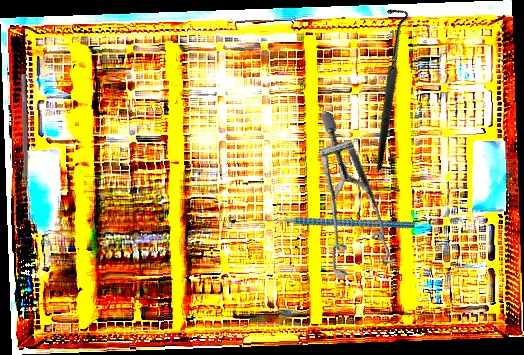Chopper: (252, 168, 416, 284)
Hook Surgical: (307, 2, 465, 173)
Spatula Surgical: (15, 73, 31, 203)
Speculum: (272, 110, 435, 294)
